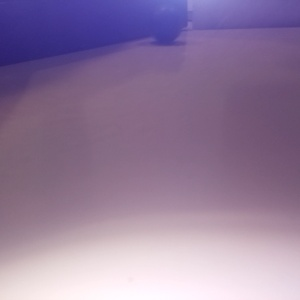alive_ball: (4, 131, 183, 298), (78, 21, 149, 94), (1, 17, 45, 85)
